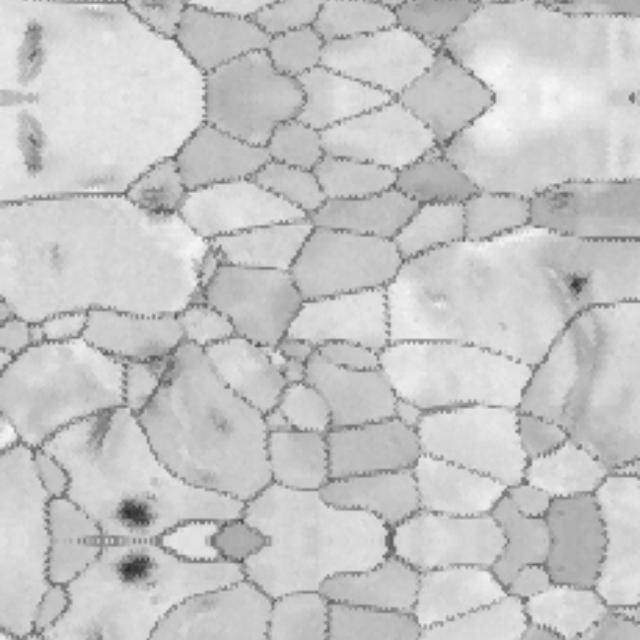good_void: (12, 108, 55, 185), (12, 13, 55, 89), (108, 483, 168, 535), (108, 549, 168, 601), (142, 341, 187, 407), (193, 400, 241, 445), (85, 400, 125, 452), (183, 260, 222, 312), (140, 183, 181, 232), (537, 185, 577, 222), (44, 240, 72, 278), (558, 274, 595, 298), (537, 0, 577, 12), (141, 0, 174, 14)
